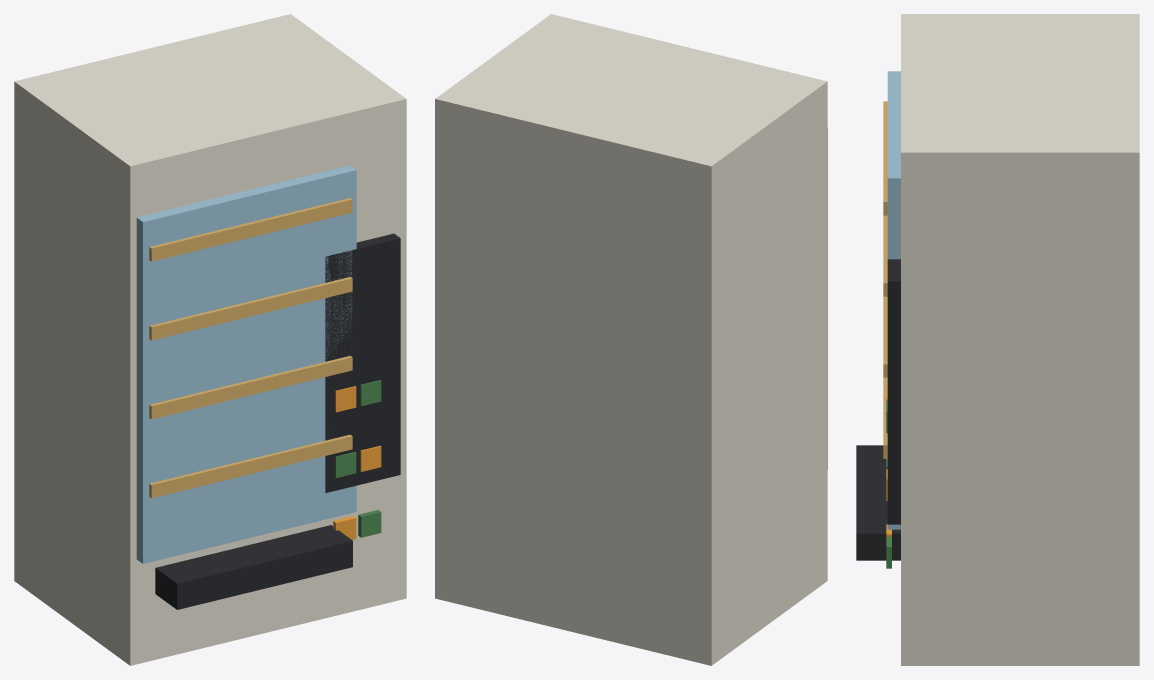
File: prop.vending-machine.glb
The picture shows the model from 3 angles, left to right: view 1: azimuth 30°, elevation 25°; view 2: azimuth 150°, elevation 25°; view 3: azimuth 270°, elevation 25°; orthographic projection. The views are drawn at different scales.
Visible parts, largest first — view 1: prop.vending-machine; view 2: prop.vending-machine; view 3: prop.vending-machine.
Boxes of the visible parts, x1,y1,x2,y2 form: prop.vending-machine: [14, 14, 406, 665]; prop.vending-machine: [435, 14, 827, 665]; prop.vending-machine: [856, 14, 1139, 665].
Bounding box in the file's own units: 1.1 × 1.9 × 0.95.
